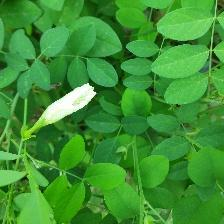shankupushpam: (26, 80, 105, 135)
